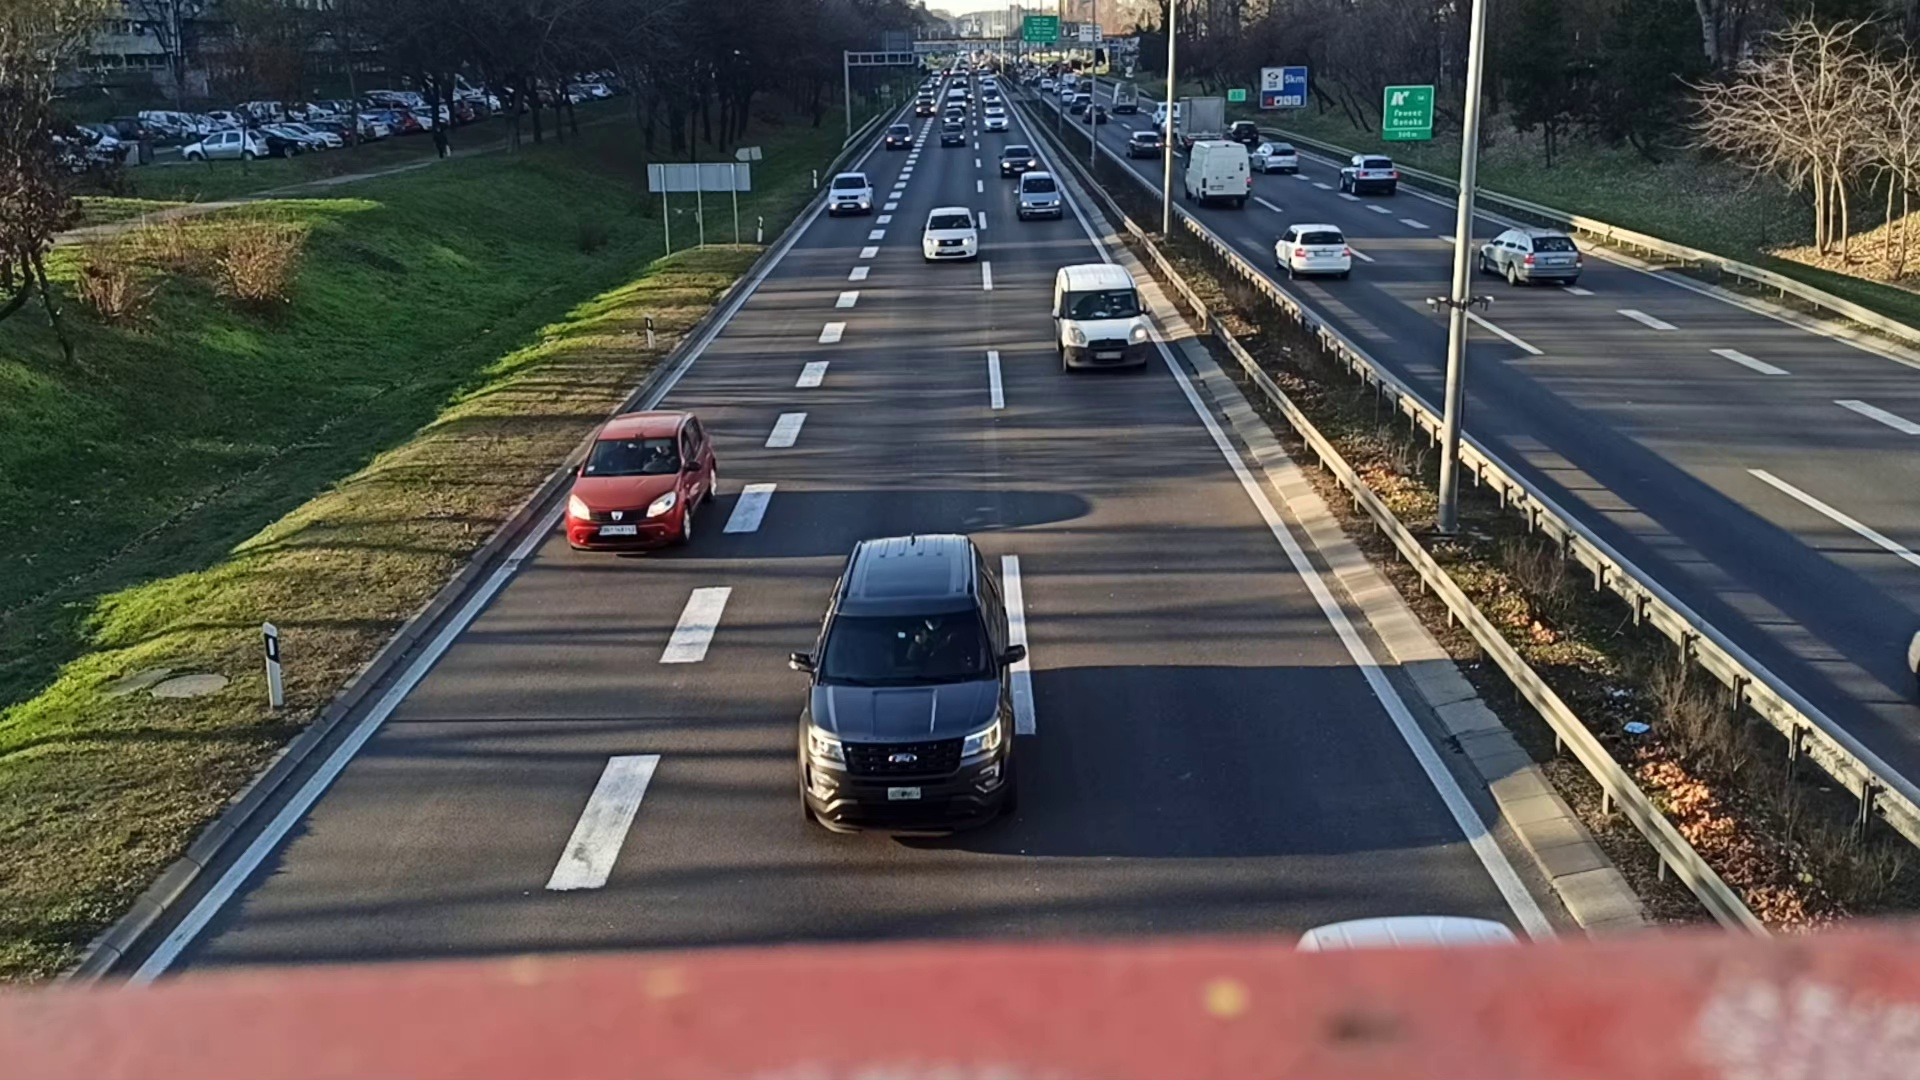car: (796, 527, 1011, 843), (563, 409, 720, 560), (1480, 225, 1584, 289), (1275, 220, 1352, 284), (920, 207, 980, 262), (1340, 152, 1399, 196), (1017, 167, 1062, 218), (827, 167, 874, 214), (1000, 142, 1035, 171), (886, 123, 913, 152), (938, 127, 965, 149)
van: (1051, 264, 1150, 381), (1184, 140, 1251, 204)
